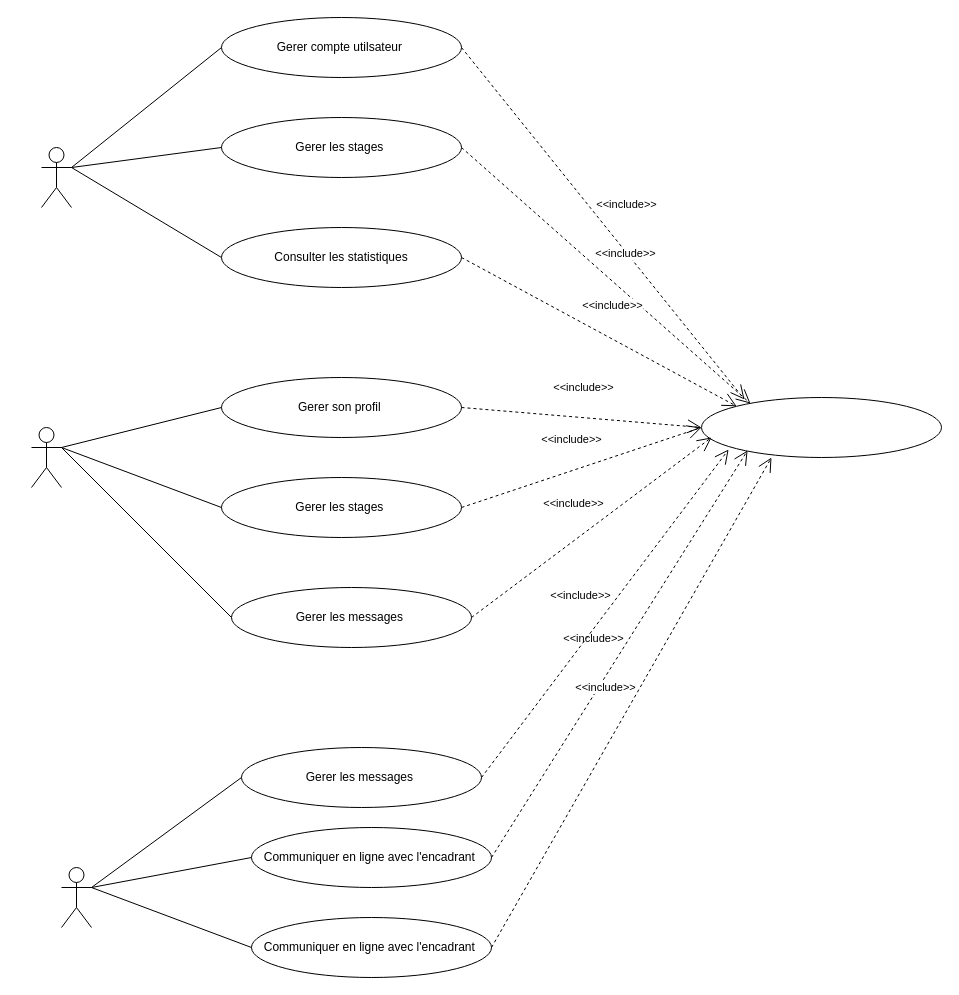
The diagram is 959 pixels wide and 995 high, and some of its shapes have lost their labels. The shapes that lost their labels are listed below. From the top down, each one's centre as x and y in pixels, then its label:
(x=56, y=177): administrateur
(x=821, y=427): s'authentifier
(x=46, y=457): stagiaire
(x=76, y=897): encadrant
